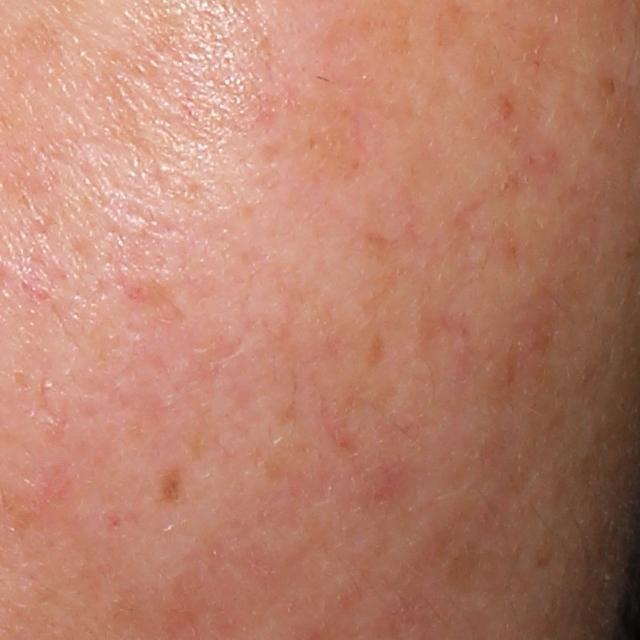melasma: (157, 459, 188, 509)
